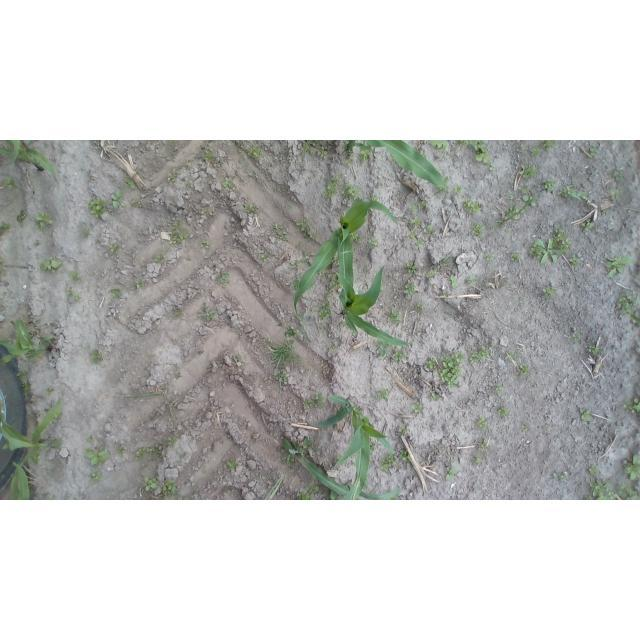Maize: (291, 194, 399, 322), (313, 390, 394, 500), (330, 265, 414, 351), (291, 450, 405, 500), (350, 141, 448, 194), (2, 397, 67, 476), (1, 316, 60, 366), (0, 140, 58, 182), (0, 461, 34, 500)
Weeds: (117, 382, 179, 430), (527, 228, 573, 266), (585, 478, 640, 500), (264, 341, 307, 369), (438, 349, 466, 390), (497, 200, 527, 226), (295, 482, 336, 500), (167, 218, 192, 246), (470, 140, 494, 168), (603, 256, 632, 279), (82, 446, 110, 469), (132, 444, 162, 465), (15, 369, 34, 401), (618, 291, 640, 318), (322, 174, 345, 199), (295, 217, 318, 242), (85, 194, 107, 220), (283, 436, 310, 456), (322, 270, 342, 297), (558, 185, 591, 201), (108, 188, 129, 213), (268, 221, 289, 244), (160, 477, 181, 500), (283, 325, 313, 341), (38, 256, 63, 275), (269, 371, 295, 389), (519, 185, 539, 208), (288, 252, 315, 269), (622, 456, 640, 481), (468, 346, 493, 364), (34, 210, 55, 231), (622, 394, 640, 418), (463, 196, 484, 216), (198, 148, 219, 168), (304, 392, 325, 411), (247, 143, 267, 162), (121, 174, 141, 193), (577, 407, 596, 426), (242, 201, 266, 216), (195, 304, 216, 321), (169, 362, 186, 383), (87, 346, 106, 364), (519, 163, 539, 178), (299, 141, 319, 156), (539, 140, 560, 154), (108, 284, 125, 301), (143, 476, 160, 493), (540, 175, 556, 193), (165, 435, 181, 453), (396, 447, 414, 463), (472, 222, 487, 241), (316, 301, 331, 320), (150, 253, 169, 268), (386, 308, 402, 325), (342, 183, 358, 200), (67, 270, 85, 285), (611, 167, 625, 186), (381, 453, 395, 472), (76, 227, 95, 241), (222, 174, 235, 194), (552, 470, 569, 485), (360, 145, 373, 164), (476, 415, 491, 431), (410, 399, 425, 415), (214, 269, 230, 284), (375, 340, 389, 357), (116, 443, 130, 460), (88, 470, 105, 484), (583, 146, 601, 159), (517, 364, 532, 379), (403, 279, 417, 295), (541, 286, 558, 299), (5, 174, 18, 191), (567, 254, 582, 268), (403, 261, 418, 275), (375, 389, 389, 404), (586, 344, 603, 356), (200, 237, 214, 251), (498, 405, 511, 420), (581, 218, 596, 231), (423, 225, 436, 240), (129, 196, 144, 209), (226, 459, 239, 474), (444, 466, 456, 482), (425, 355, 438, 369), (392, 347, 405, 361), (133, 278, 146, 292), (466, 276, 481, 288), (408, 199, 424, 210), (166, 168, 177, 184), (607, 187, 620, 200), (16, 211, 29, 224), (453, 184, 465, 198), (316, 145, 328, 159), (325, 341, 339, 353), (448, 274, 458, 290), (505, 350, 517, 363), (440, 254, 452, 267), (235, 140, 248, 152), (109, 241, 122, 253), (398, 425, 411, 437), (509, 252, 523, 263), (171, 308, 185, 319), (433, 140, 451, 148), (410, 216, 422, 228), (345, 150, 354, 166), (544, 421, 557, 432), (1, 219, 12, 232), (570, 330, 581, 342), (426, 269, 437, 281), (478, 441, 488, 454), (529, 147, 542, 157), (406, 229, 417, 240), (291, 278, 302, 289), (233, 353, 244, 364), (588, 464, 600, 474), (369, 237, 379, 249), (492, 383, 504, 393), (522, 424, 535, 433), (180, 162, 193, 171), (64, 286, 73, 299), (413, 237, 424, 247), (45, 387, 55, 398), (184, 180, 193, 192), (455, 141, 470, 148), (415, 301, 425, 311), (473, 455, 482, 466), (351, 233, 362, 242), (264, 337, 273, 348), (206, 363, 217, 372), (261, 252, 272, 261), (73, 291, 82, 302), (519, 144, 529, 153), (488, 164, 497, 174), (444, 290, 453, 300), (84, 434, 94, 443), (486, 252, 497, 260), (430, 394, 442, 401), (519, 299, 528, 308), (167, 140, 180, 146)
